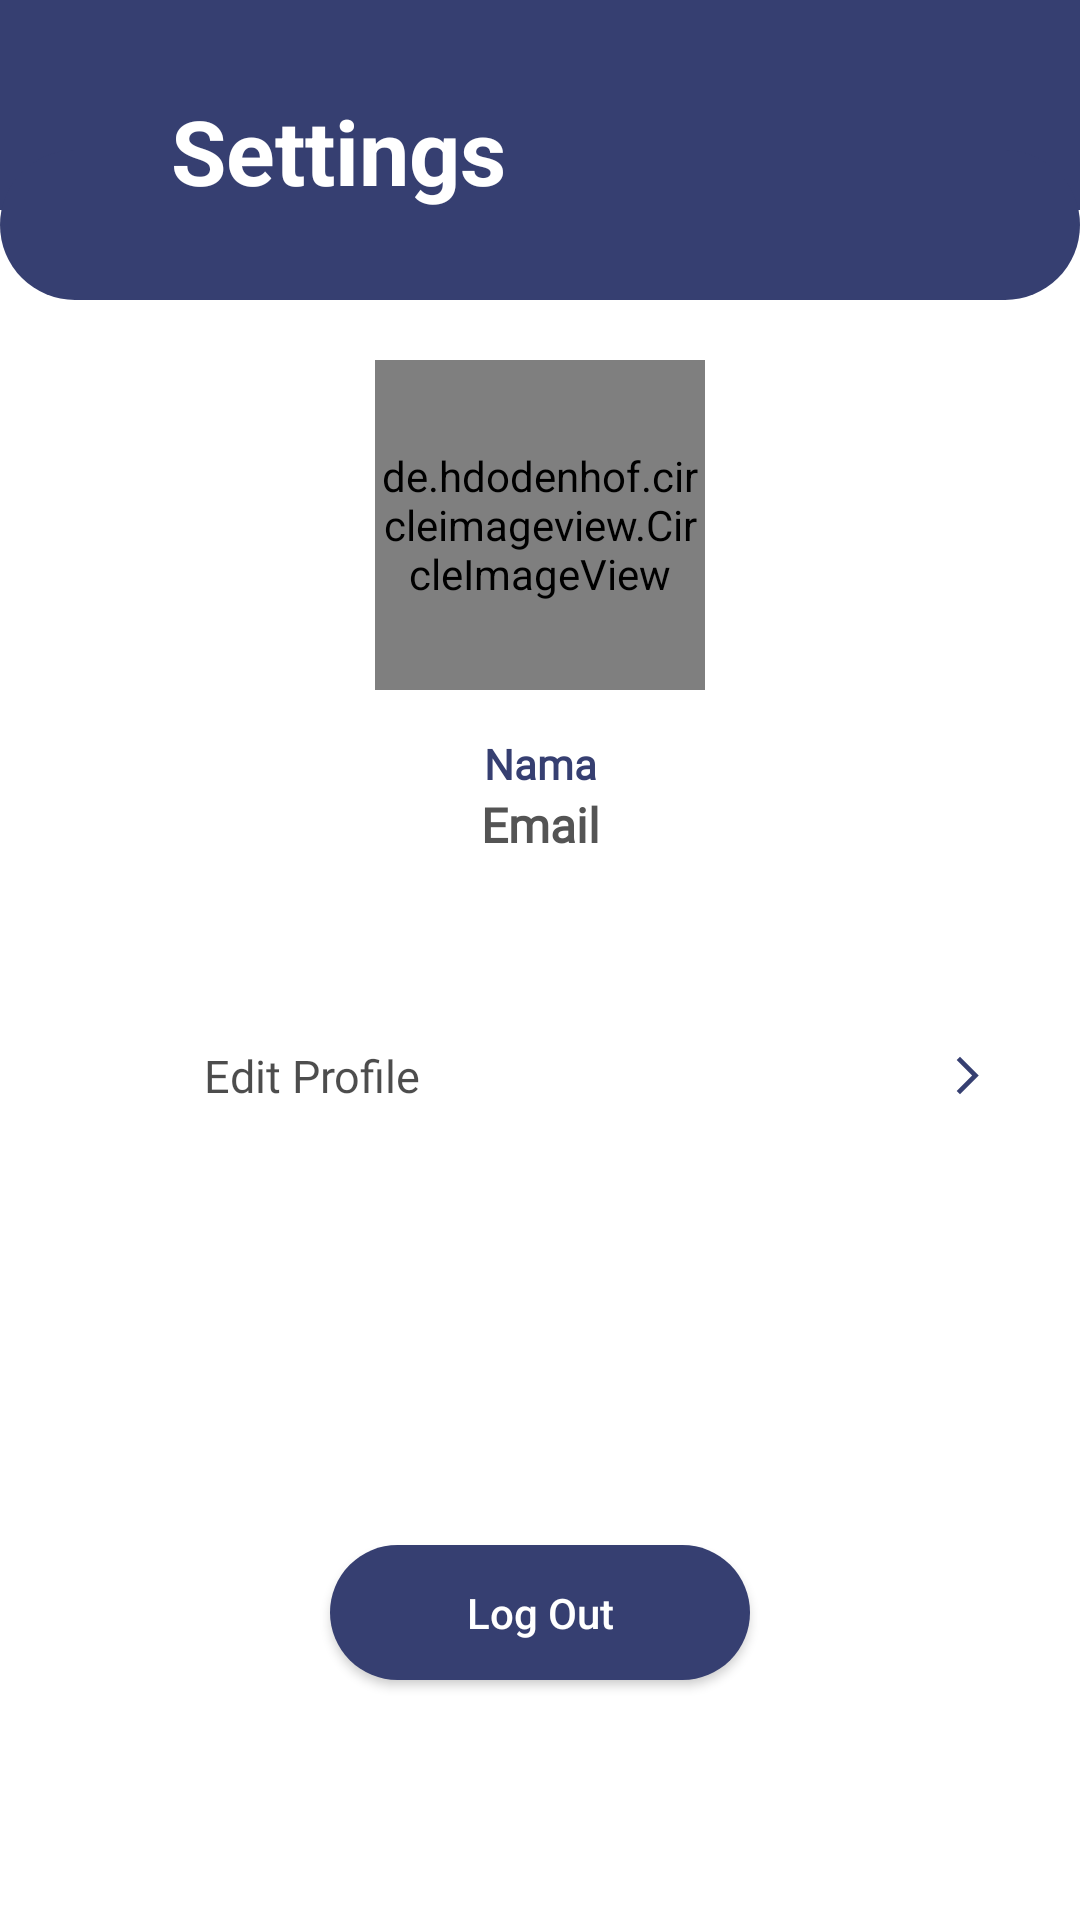

Icons on this 1080px×1920px Android screen, each with its box as region(x1, y1, x2, y2):
arrow forward: region(957, 1057, 979, 1094)
